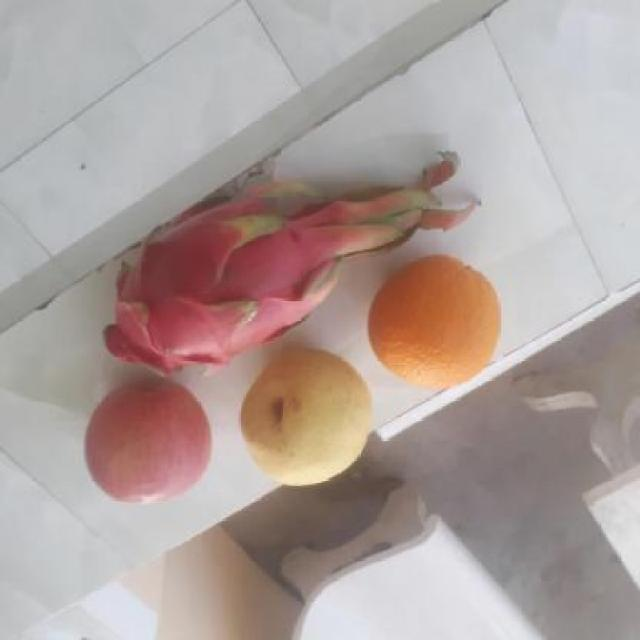apple: (77, 381, 212, 504)
dragon fruit: (102, 204, 328, 373)
oren: (363, 259, 506, 396)
pear: (232, 348, 379, 492)
